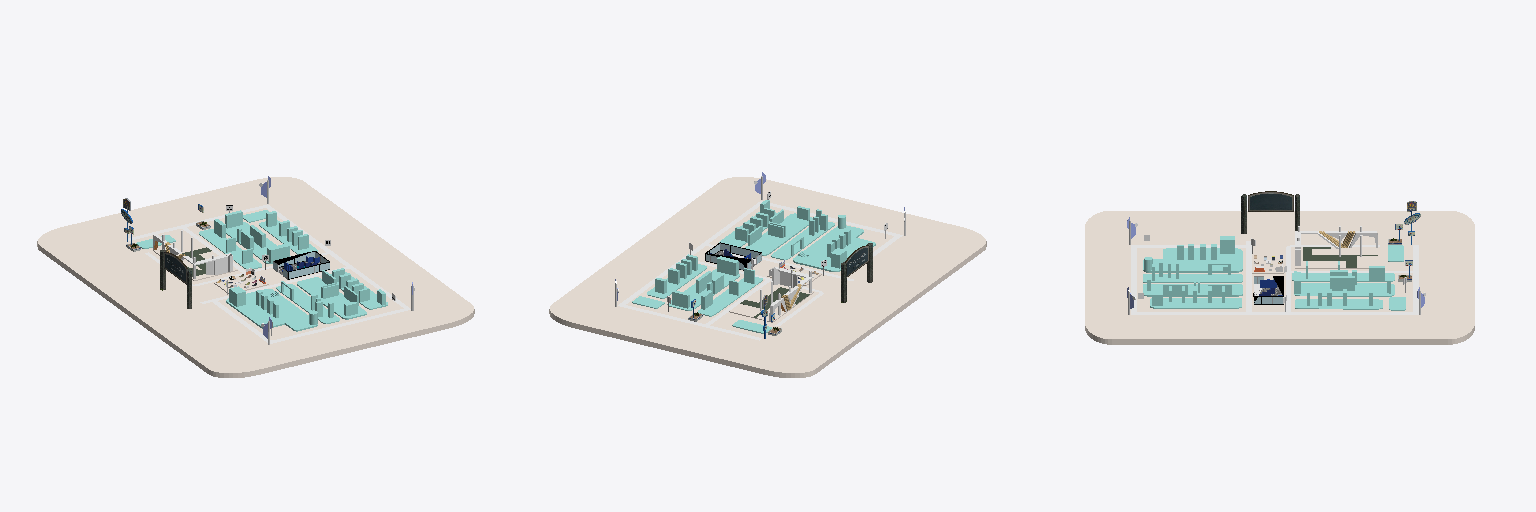
3 renders of one model, left to right at view 1: azimuth 30°, elevation 25°; view 2: azimuth 150°, elevation 25°; view 3: azimuth 270°, elevation 25°, orthographic.
Parts seen in each view (by area): view 1: Group35, Group119, Mesh54, Group121, Group3, Group32, Group118, Group117, Group120, Mesh34; view 2: Group35, Mesh54, Group119, Group121, Group3, Group32, Group118, Group117, Group120, Mesh34, Group75; view 3: Group35, Mesh54, Group119, Group3, Group120, Group121, Group118, Group117, Group75, Mesh12, Group32, Mesh34 (+1 smaller).
Part boxes in pixels (bbox=[...]): Group35: bbox=[37, 177, 474, 377]; Group119: bbox=[226, 286, 317, 331]; Mesh54: bbox=[128, 204, 410, 343]; Group121: bbox=[297, 270, 366, 319]; Group3: bbox=[225, 210, 290, 263]; Group32: bbox=[199, 219, 261, 268]; Group118: bbox=[259, 211, 317, 254]; Group117: bbox=[276, 281, 339, 323]; Group120: bbox=[331, 268, 387, 309]; Mesh34: bbox=[273, 251, 329, 279]; Group35: bbox=[549, 177, 986, 377]; Mesh54: bbox=[618, 201, 902, 340]; Group119: bbox=[793, 215, 875, 271]; Group121: bbox=[745, 206, 812, 255]; Group3: bbox=[667, 256, 739, 310]; Group32: bbox=[698, 268, 762, 316]; Group118: bbox=[647, 254, 706, 298]; Group117: bbox=[771, 209, 834, 259]; Group120: bbox=[719, 200, 776, 246]; Mesh34: bbox=[705, 242, 761, 270]; Group75: bbox=[729, 281, 813, 322]; Group35: bbox=[1085, 211, 1474, 344]; Mesh54: bbox=[1131, 241, 1418, 314]; Group119: bbox=[1143, 236, 1242, 272]; Group3: bbox=[1294, 270, 1394, 296]; Group120: bbox=[1150, 286, 1241, 308]; Group121: bbox=[1143, 275, 1242, 296]; Group118: bbox=[1295, 289, 1382, 309]; Group117: bbox=[1143, 260, 1242, 282]; Group75: bbox=[1295, 247, 1377, 268]; Mesh12: bbox=[1248, 191, 1293, 211]; Group32: bbox=[1292, 261, 1394, 281]; Mesh34: bbox=[1254, 276, 1283, 304].
Size of the model in its own units: 3981 by 701 by 5099.
73 materials, 33 textured.